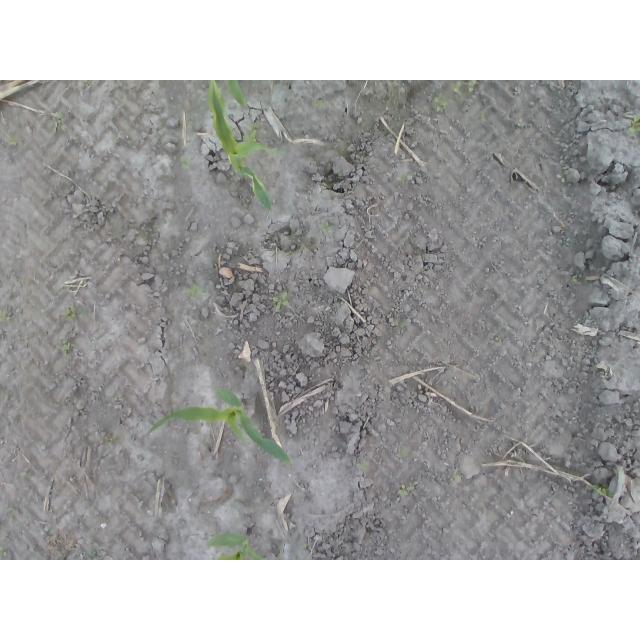Maize: (143, 386, 293, 470), (208, 81, 291, 213), (205, 526, 272, 560)
Weeds: (64, 304, 87, 324), (270, 292, 290, 313), (453, 81, 480, 95), (592, 482, 612, 498), (629, 111, 640, 138), (184, 283, 204, 297), (317, 221, 335, 236), (435, 96, 449, 112), (556, 168, 569, 185), (2, 536, 11, 560), (397, 486, 415, 498), (51, 113, 62, 132), (3, 136, 22, 147), (354, 462, 370, 475), (1, 306, 10, 326), (60, 343, 75, 354), (314, 96, 327, 108), (397, 446, 408, 459), (104, 435, 117, 446), (454, 470, 463, 483), (515, 116, 524, 128), (89, 552, 101, 561), (182, 156, 191, 166), (398, 323, 409, 330)
